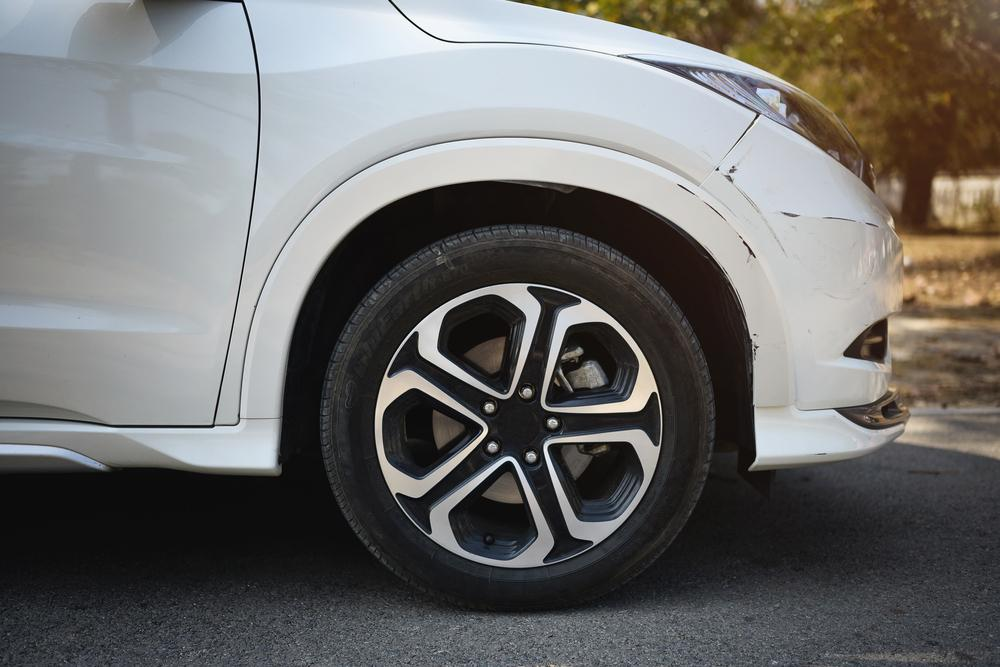scratch: (697, 163, 879, 297)
